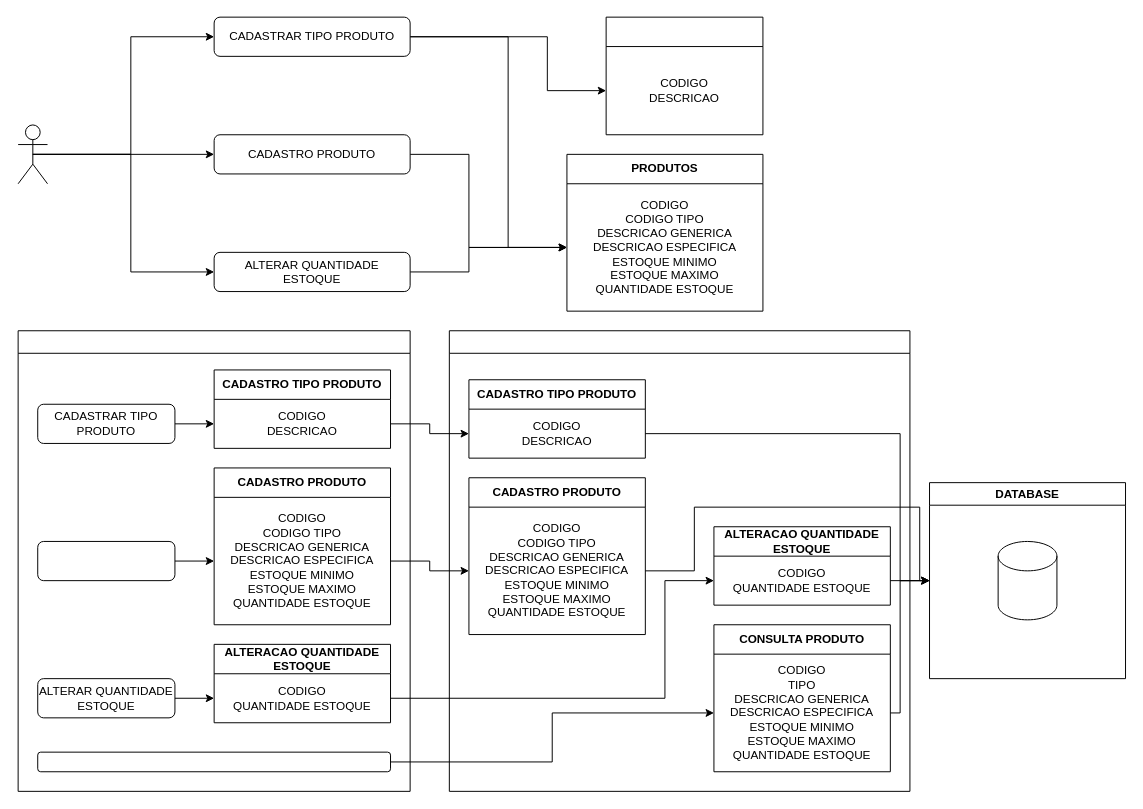
Some shapes in this 1143 by 809 pixel diagram are drawn without their labels. Each missing label, with the box of its shape:
BACKEND: (448, 330, 910, 791)
CADASTRAR PRODUTO: (37, 540, 175, 581)
FRONTEND: (17, 330, 410, 791)
LISTA TODOS PRODUTOS: (37, 751, 391, 772)
TB_PRODUTOS: (997, 540, 1057, 620)
TIPOS PRODUTO: (605, 16, 763, 135)
USER: (17, 124, 48, 184)
